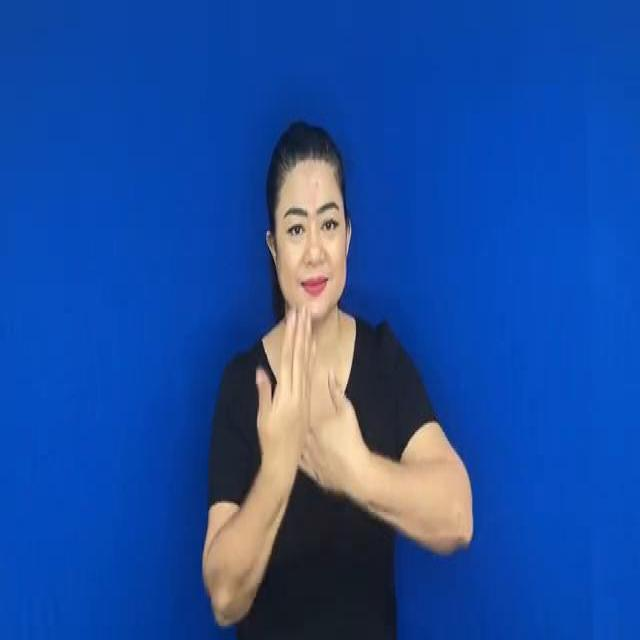bread: (251, 309, 376, 536)
